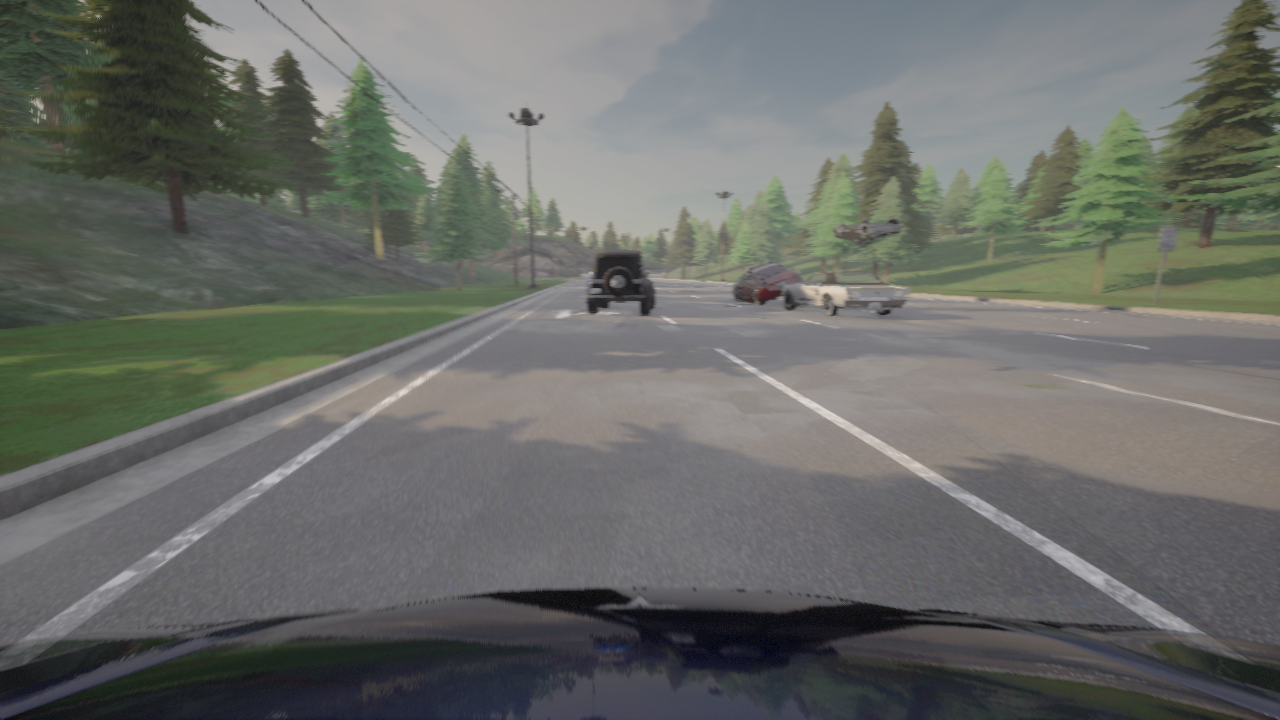cyclist: (0, 588, 1279, 719), (781, 271, 909, 315), (586, 251, 654, 313), (733, 262, 803, 303), (832, 217, 903, 245), (584, 272, 591, 291), (617, 248, 626, 250)
